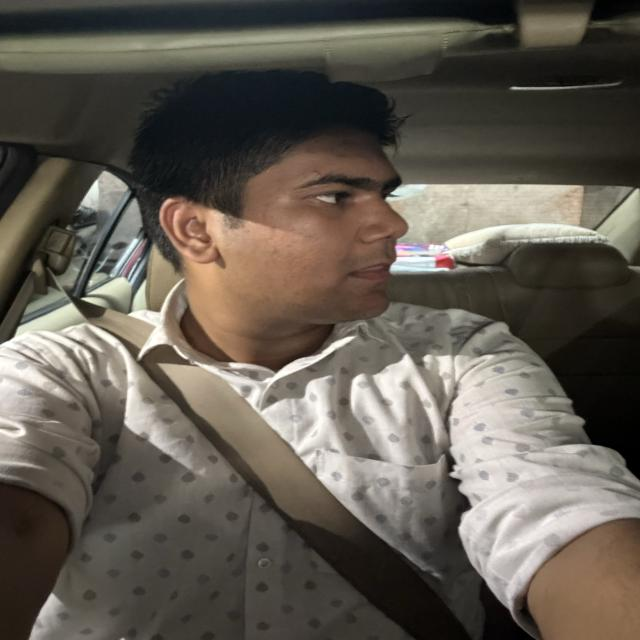seatbelt: (21, 201, 485, 640)
